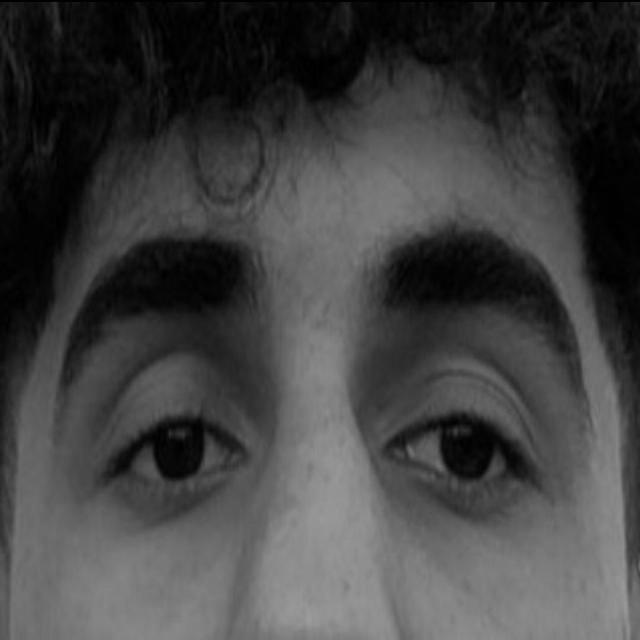real: (64, 272, 584, 572)
